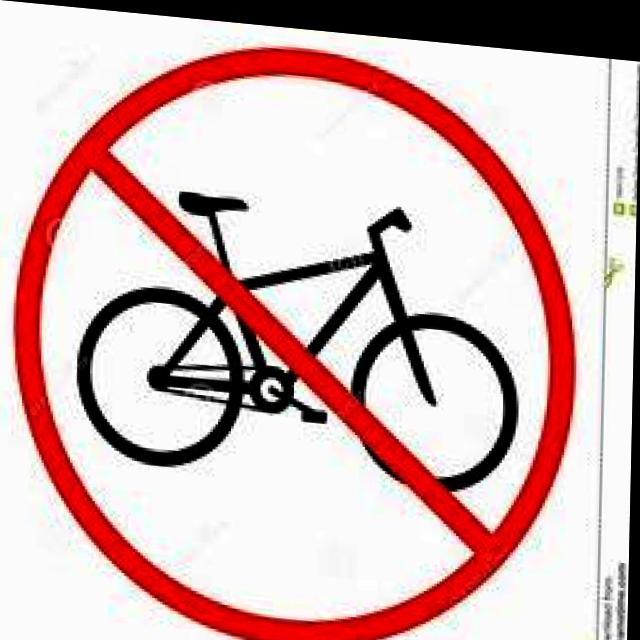CYCLE_PROHIBITED: (11, 17, 584, 640)
